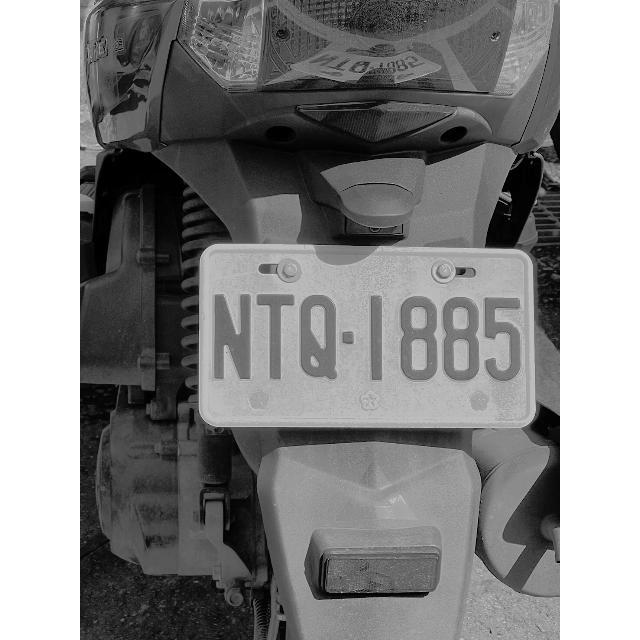-: (338, 326, 356, 349)
1: (362, 290, 391, 386)
5: (484, 293, 526, 383)
8: (398, 294, 440, 384), (441, 295, 482, 385)
N: (208, 289, 254, 386)
Q: (297, 291, 341, 384)
T: (254, 288, 298, 382)
